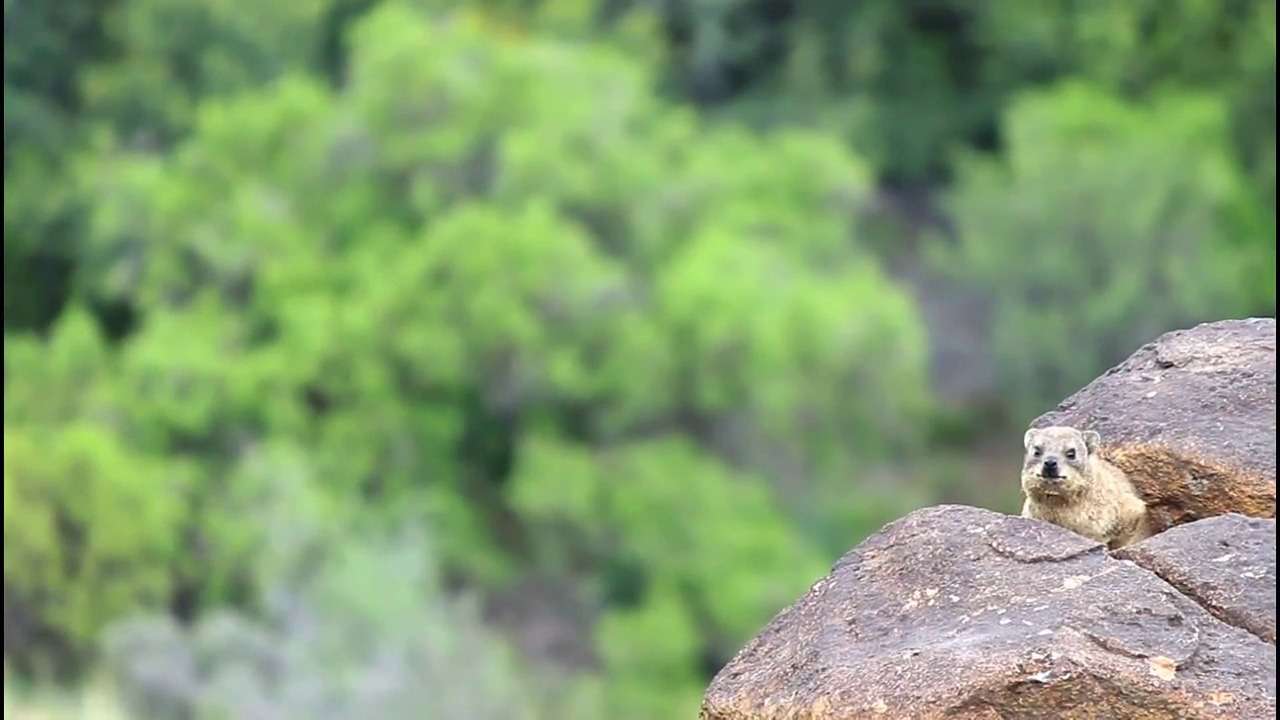Rock Hyrex: (1018, 424, 1152, 557)
